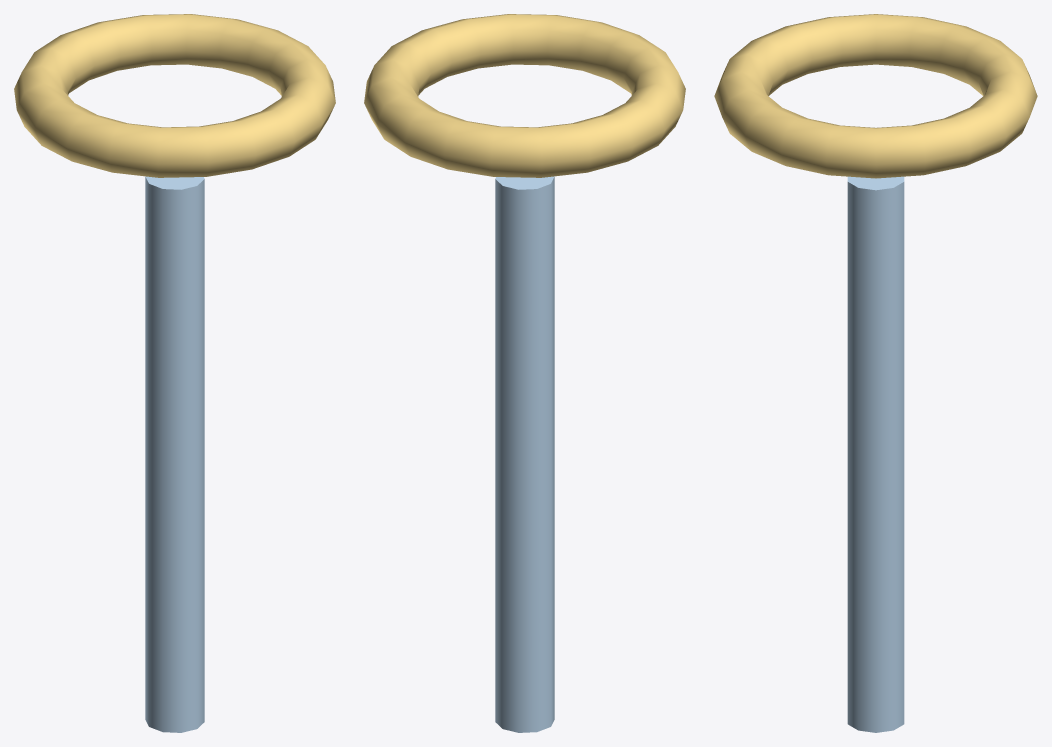
Rendered from bubble_wand.glb.
3 renders of one model, left to right at view 1: azimuth 30°, elevation 25°; view 2: azimuth 150°, elevation 25°; view 3: azimuth 270°, elevation 25°, orthographic.
Parts seen in each view (by area): view 1: Bubble Wand; view 2: Bubble Wand; view 3: Bubble Wand.
Boxes of the visible parts, x1,y1,x2,y2 form: Bubble Wand: (14,14,335,732); Bubble Wand: (364,14,685,732); Bubble Wand: (714,14,1037,732).
Size of the model in its own units: 0.216 by 0.478 by 0.216.
